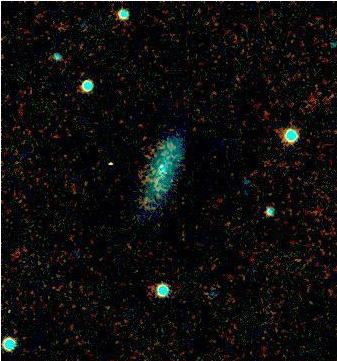star: (96, 145, 126, 175)
